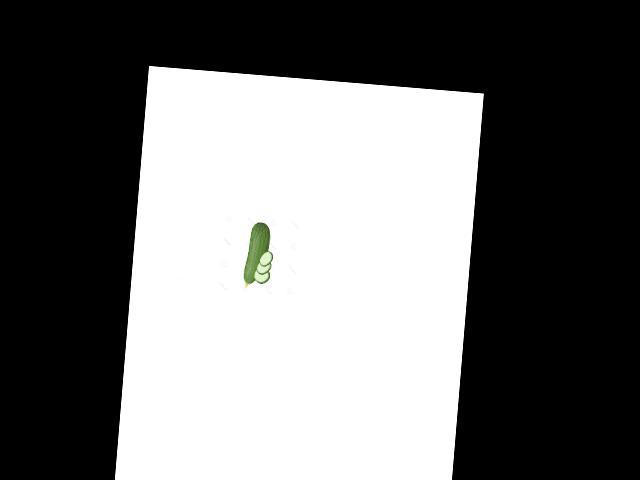cucumber: (243, 220, 271, 288)
